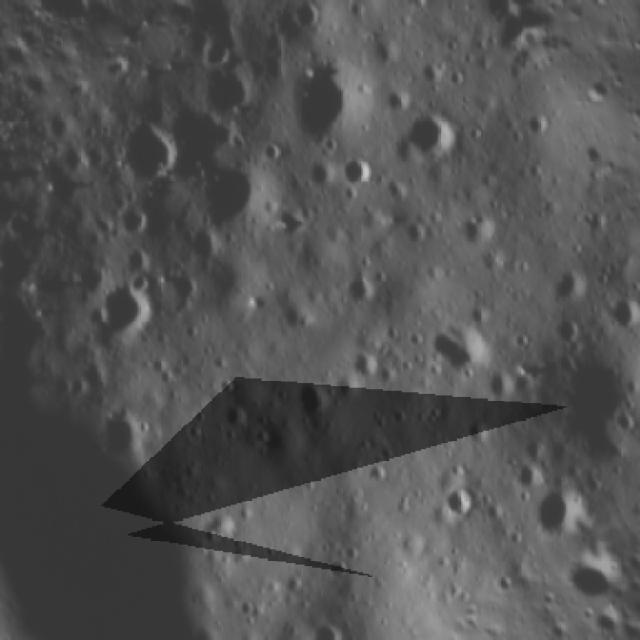crater: (532, 342, 640, 484), (263, 38, 386, 162), (181, 144, 287, 248), (89, 107, 189, 205), (154, 88, 249, 182), (76, 272, 167, 358), (514, 473, 600, 553), (391, 90, 471, 173), (86, 390, 162, 468), (422, 307, 496, 382), (186, 54, 260, 128), (283, 359, 346, 427), (449, 199, 506, 256), (187, 21, 245, 77), (469, 356, 525, 412), (541, 254, 597, 309), (212, 386, 262, 443), (358, 24, 410, 78), (334, 261, 386, 314), (501, 450, 553, 502), (106, 194, 157, 243), (332, 144, 379, 196), (410, 50, 456, 98), (601, 284, 640, 338), (436, 478, 481, 524), (305, 611, 357, 640), (629, 335, 640, 391)
